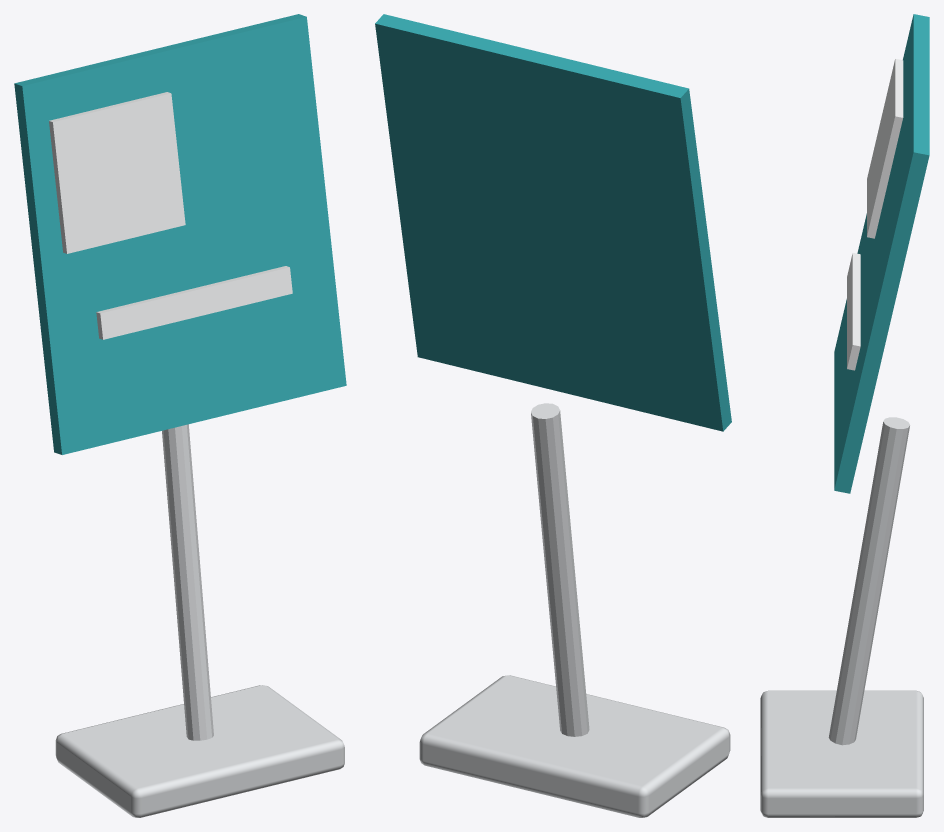
3 renders of one model, left to right at view 1: azimuth 30°, elevation 25°; view 2: azimuth 150°, elevation 25°; view 3: azimuth 270°, elevation 25°, orthographic. The views are drawn at different scales.
Visible parts, largest first — view 1: price-card-holder-brand; view 2: price-card-holder-brand; view 3: price-card-holder-brand.
Boxes of the visible parts, box(x1,y1,x2,y2) form: price-card-holder-brand: box(14, 14, 346, 817); price-card-holder-brand: box(375, 14, 731, 817); price-card-holder-brand: box(760, 14, 929, 817).
Size of the model in its own units: 0.12 by 0.2776 by 0.062.
